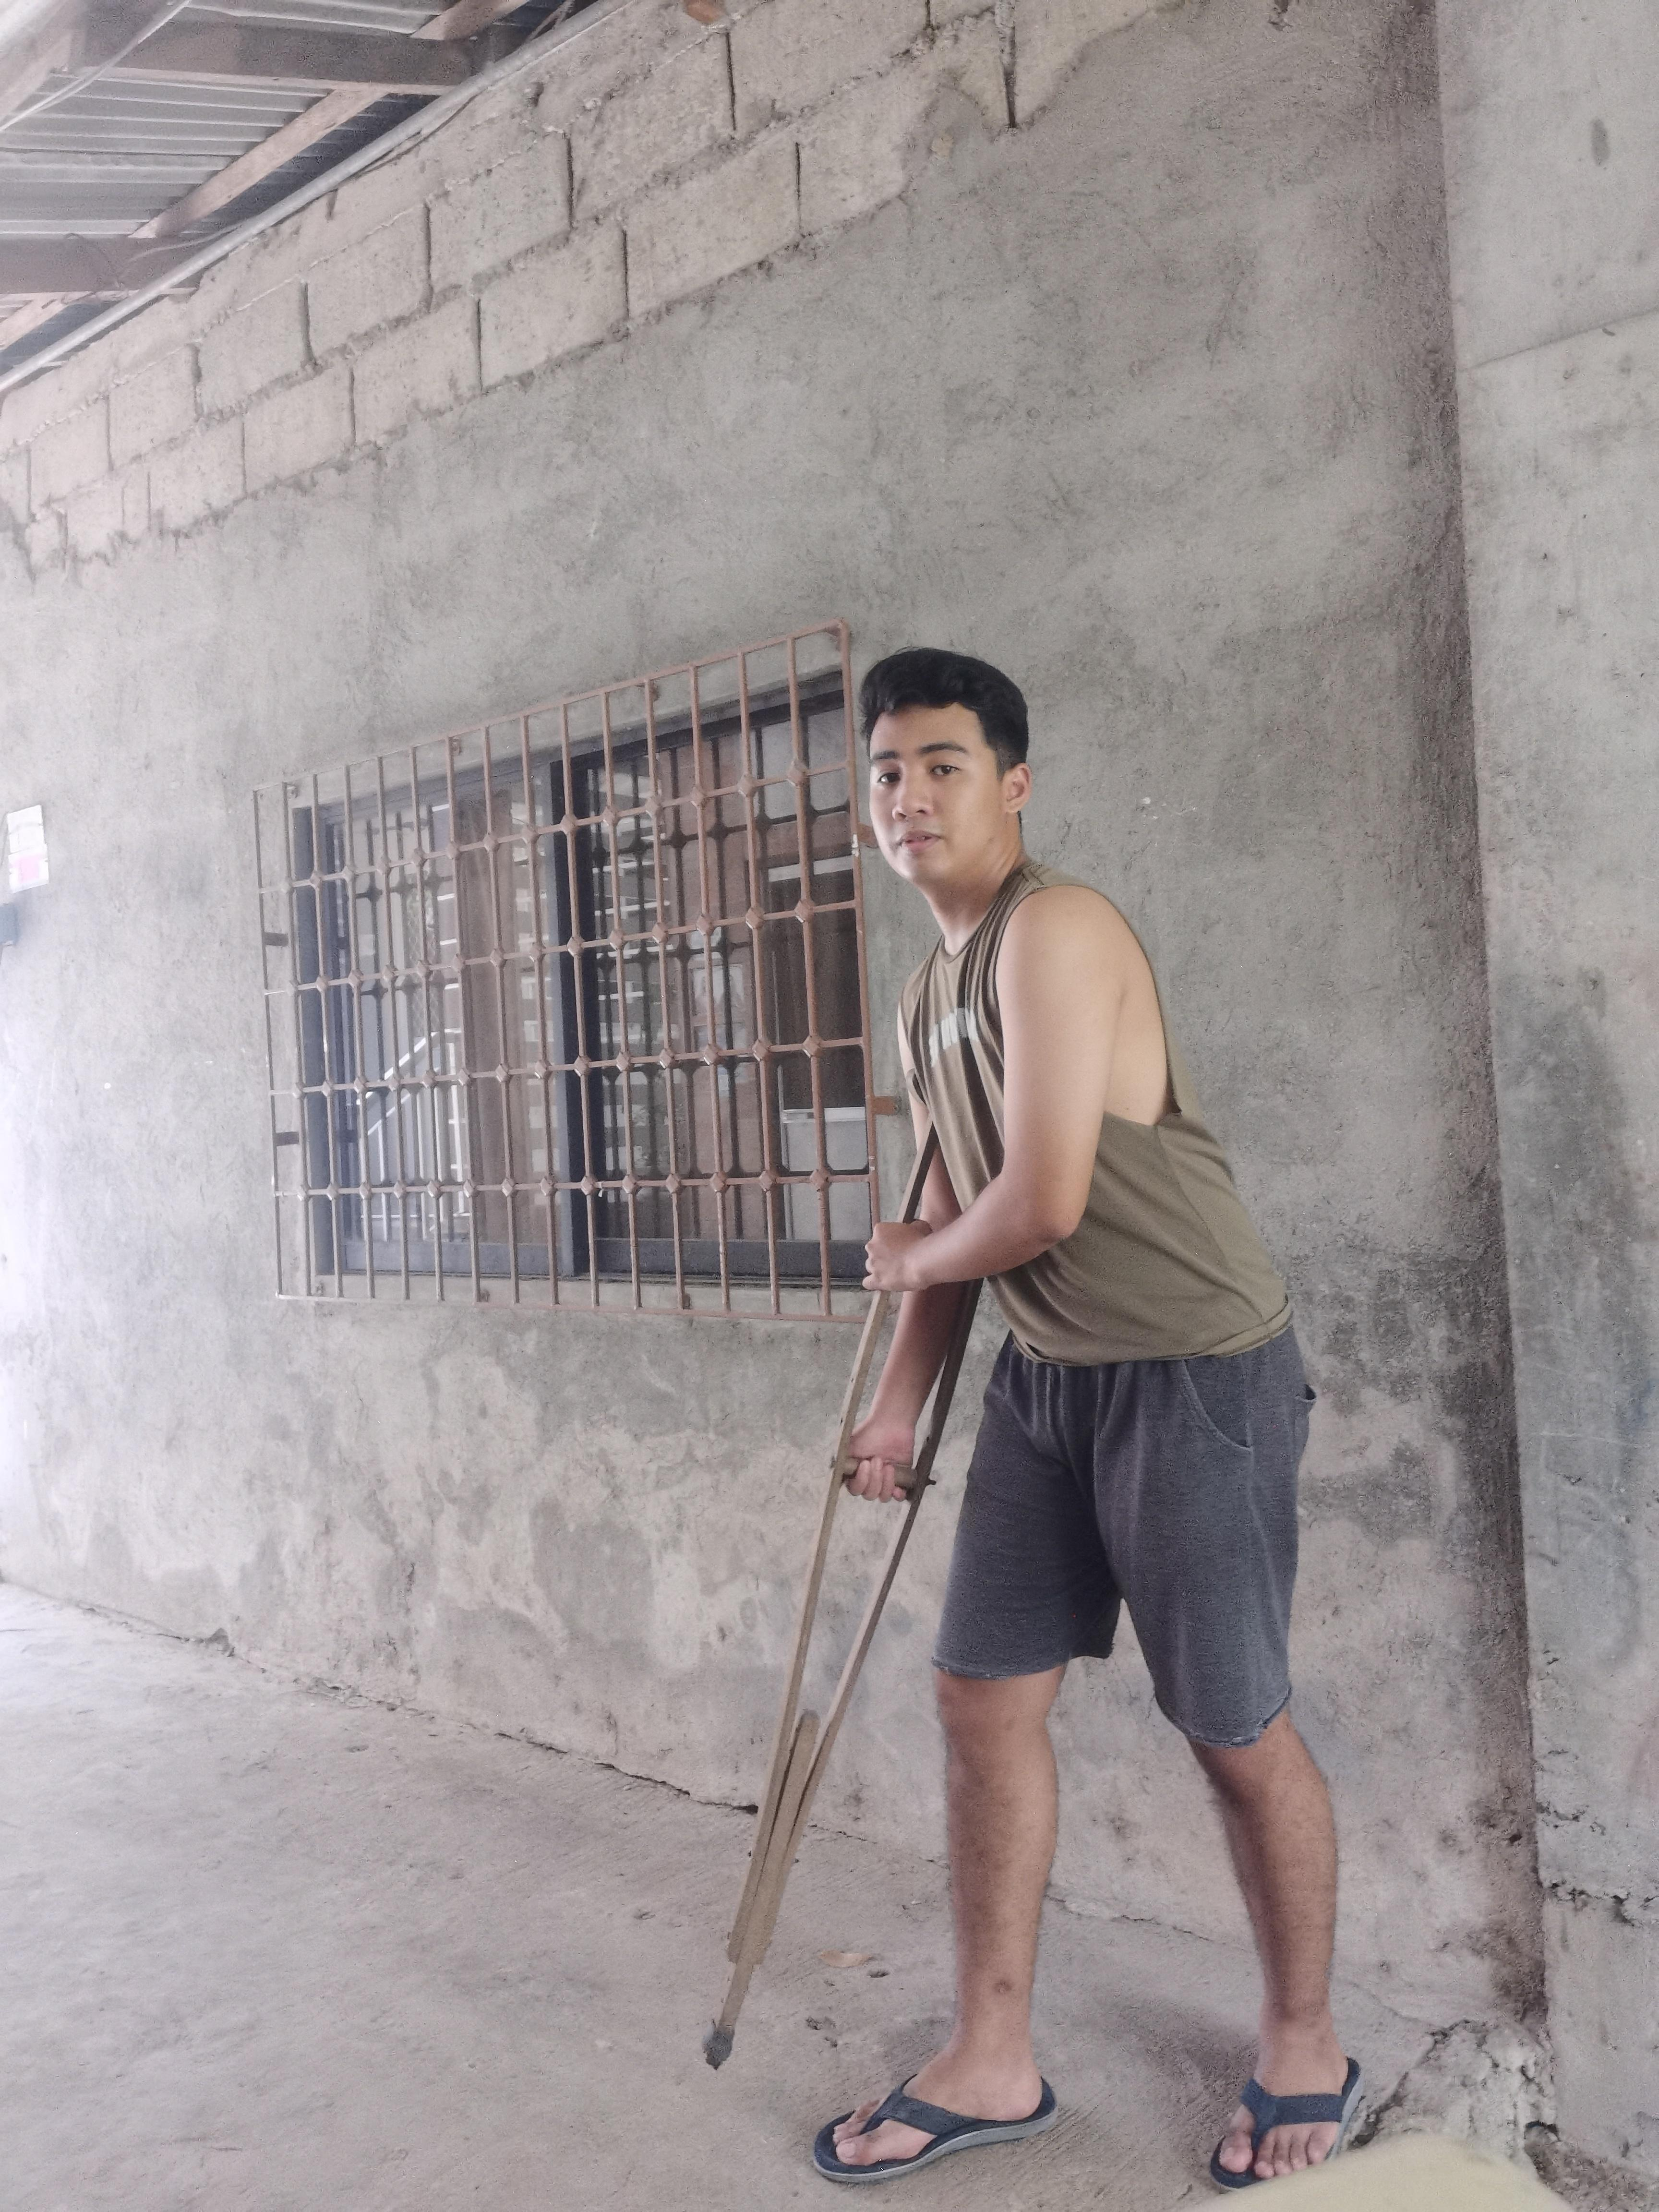crutches: (708, 650, 1366, 2186)
